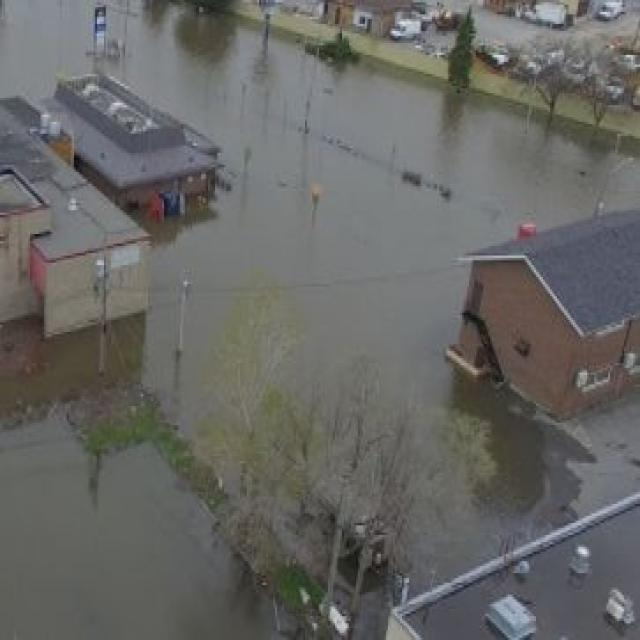flooded_areas: (0, 122, 622, 621)
